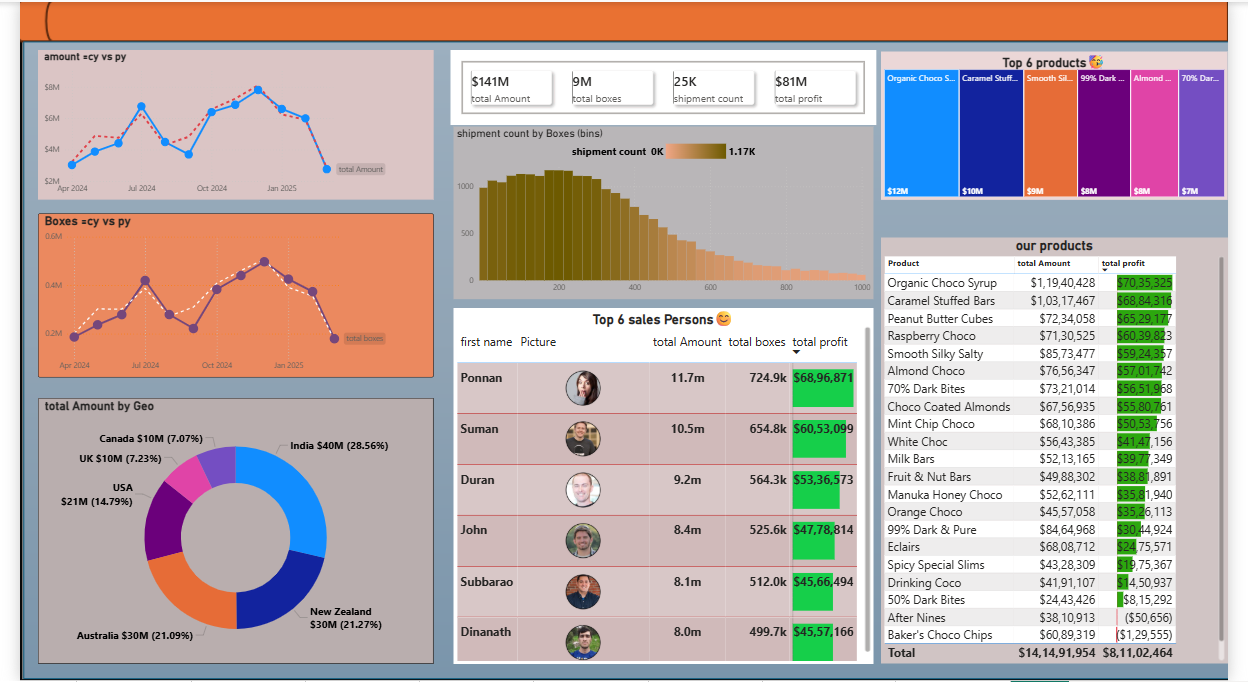

Layout of this report page (visuals, bound fields, positions):
{"tool":"powerbi","page":{"name":"power BI","canvas":[1920,1080],"ordinal":7},"visuals":[{"type":"lineChart","title":"amount =cy vs py","fields":{"Y":["shipments.total Amount","shipments.total amount (last year)"],"Category":["calendar.Start of Month"]},"box":[28.3,76.5,629.3,238.1],"z":0},{"type":"lineChart","title":"Boxes =cy vs py","fields":{"Category":["calendar.Start of Month"],"Y":["shipments.total boxes","shipments.total boxes(last year)"]},"box":[28.3,337.3,629.3,260.8],"z":1000},{"type":"donutChart","fields":{"Category":["locations.Geo"],"Y":["shipments.total Amount"]},"box":[28.3,629.3,629.3,422.4],"z":2000},{"type":"clusteredColumnChart","fields":{"Y":["shipments.shipment count"],"Category":["shipments.Boxes (bins)"]},"box":[689.5,198,668.1,274.4],"z":3000},{"type":"tableEx","title":"Top 6 sales Persons😊","fields":{"Values":["people.first name","people.Picture","shipments.total Amount","shipments.total boxes","shipments.total profit"]},"box":[689.5,486.7,668.1,565.5],"z":4000},{"type":"treemap","title":"Top 6 products🥳","fields":{"Group":["products.Product"],"Values":["shipments.total Amount"]},"box":[1369.5,78.7,551.1,236.2],"z":5000},{"type":"tableEx","title":"our products","fields":{"Values":["products.Product","shipments.total Amount","shipments.total profit"]},"box":[1369.5,374.6,551.1,677.6],"z":6000},{"type":"cardVisual","fields":{"Data":["shipments.total Amount","shipments.total boxes","shipments.shipment count","shipments.total profit"]},"box":[684.8,76.3,677.6,119.3],"z":7000}]}

Visuals, with their boxes in screenshot pixels (x1, y1, x2, y2), scaled from the page's 1920x1080 canvas onto the 1248x682 screenshot:
"amount =cy vs py" lineChart: BBox(18, 48, 427, 199)
"Boxes =cy vs py" lineChart: BBox(18, 213, 427, 378)
donutChart - locations.Geo x shipments.total Amount: BBox(18, 397, 427, 664)
clusteredColumnChart - shipments.shipment count x shipments.Boxes (bins): BBox(448, 125, 882, 298)
"Top 6 sales Persons😊" tableEx: BBox(448, 307, 882, 664)
"Top 6 products🥳" treemap: BBox(890, 50, 1247, 199)
"our products" tableEx: BBox(890, 237, 1247, 664)
cardVisual - shipments.total Amount x shipments.total boxes: BBox(445, 48, 886, 124)
